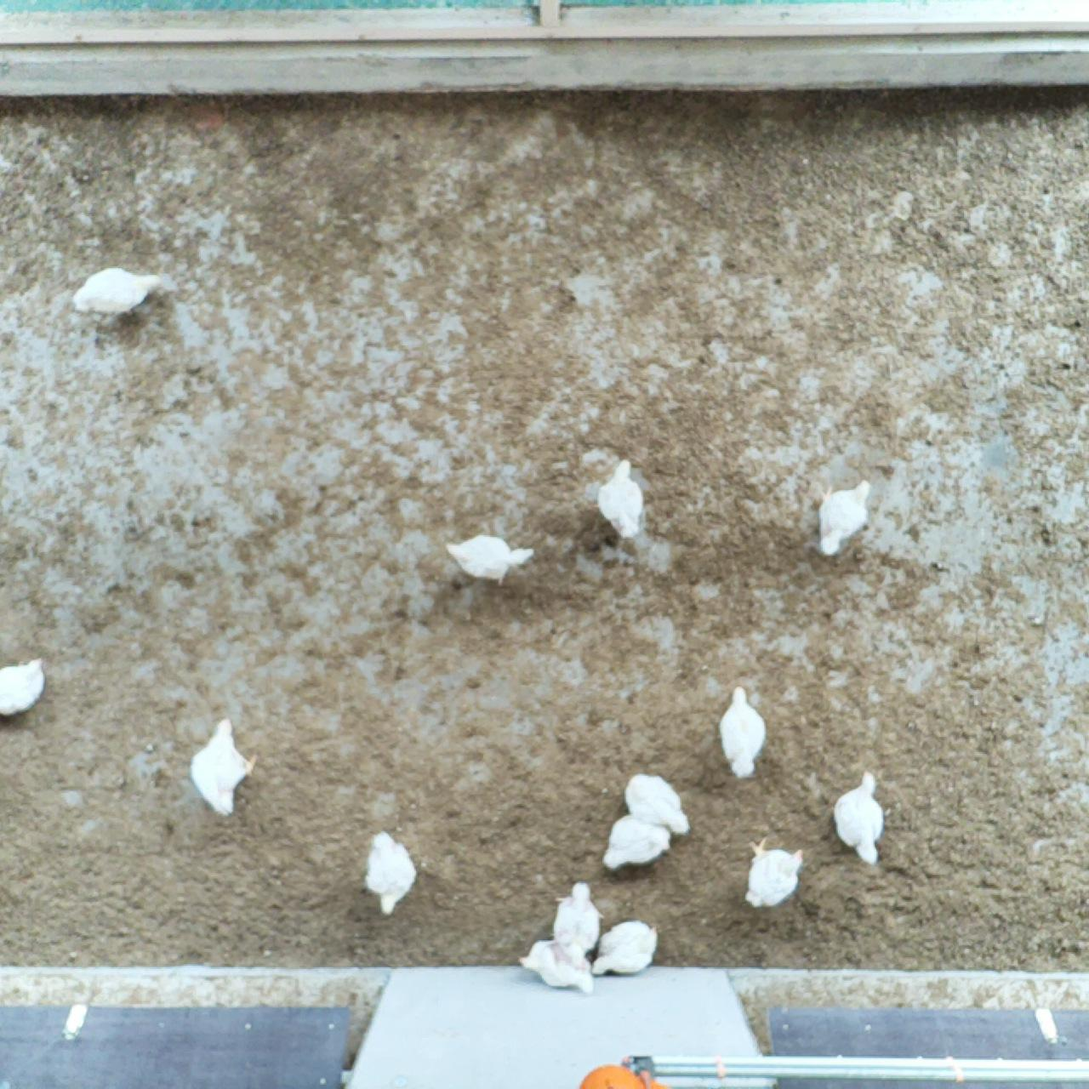chicken: (188, 711, 262, 821), (443, 525, 536, 591), (358, 824, 423, 917), (713, 680, 770, 785), (829, 766, 888, 866), (69, 260, 164, 321), (739, 831, 808, 914), (517, 934, 598, 997), (814, 474, 873, 559), (593, 455, 650, 542), (600, 810, 674, 875), (621, 770, 693, 834), (549, 878, 604, 958), (592, 916, 661, 978), (0, 654, 48, 720)
